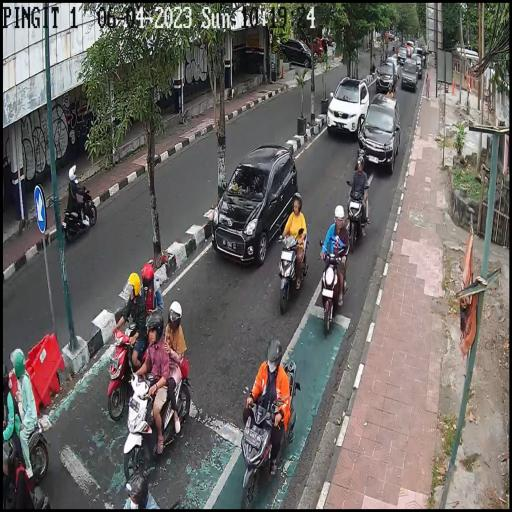mobil: (212, 140, 298, 271), (359, 92, 401, 176), (326, 74, 370, 140), (374, 62, 396, 95), (401, 59, 418, 94)
motor: (120, 362, 194, 476), (241, 366, 296, 503), (103, 322, 137, 418), (319, 239, 350, 341), (276, 224, 310, 308), (344, 172, 370, 246)
